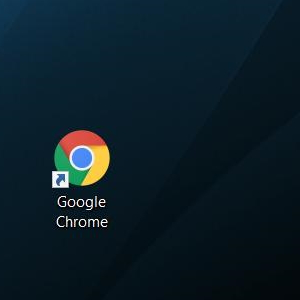chrome: (51, 130, 110, 189)
